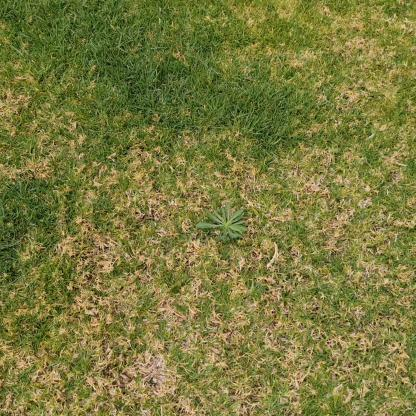Weeds: (195, 204, 248, 242)
